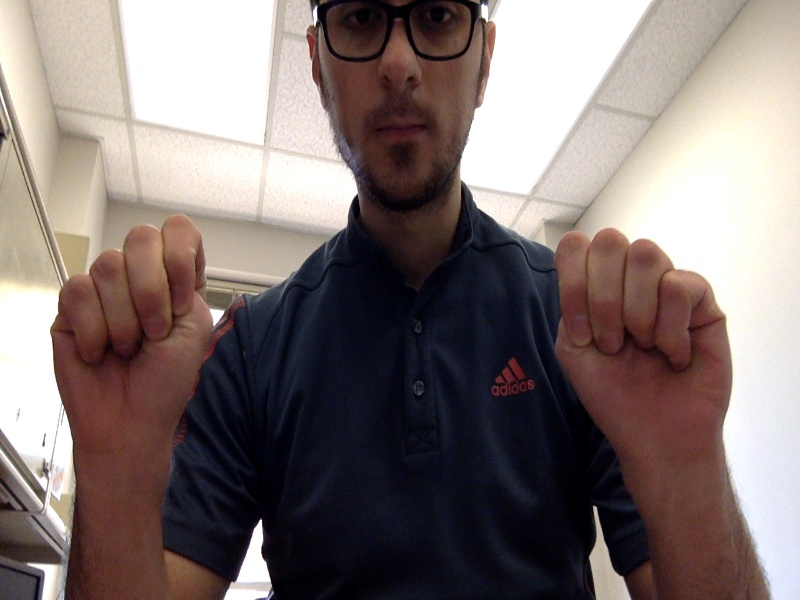0-hand: (551, 228, 732, 451), (51, 216, 209, 447)
